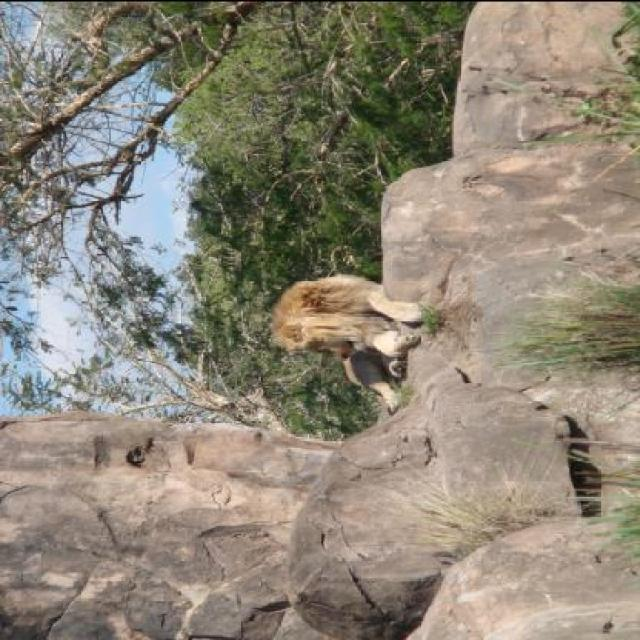Lion: (266, 253, 448, 422)
